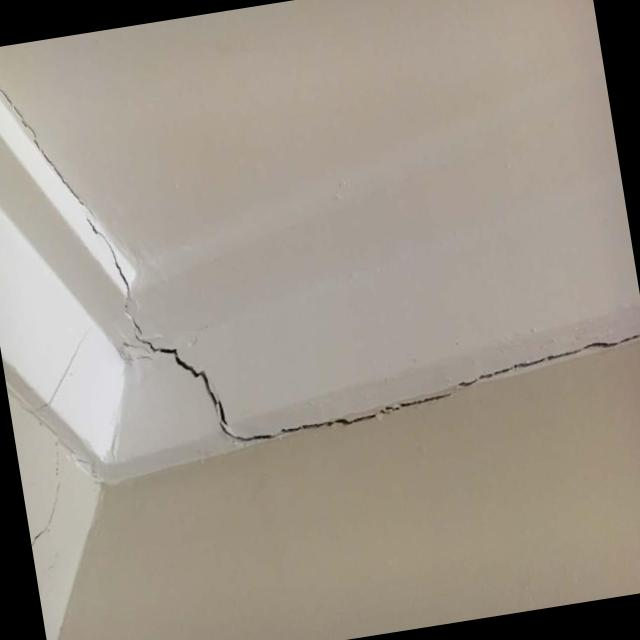crack: (143, 336, 621, 441)
